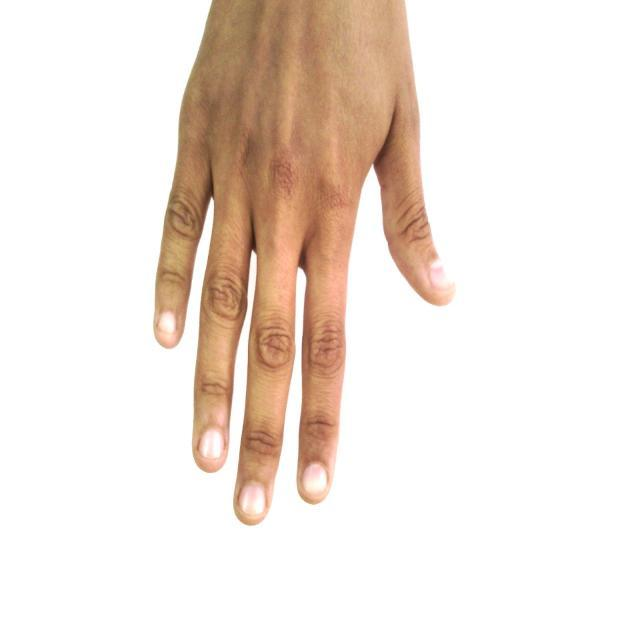Fingernail: (303, 464, 327, 497), (241, 484, 265, 515), (430, 261, 453, 290), (200, 430, 223, 459), (157, 312, 176, 333)
